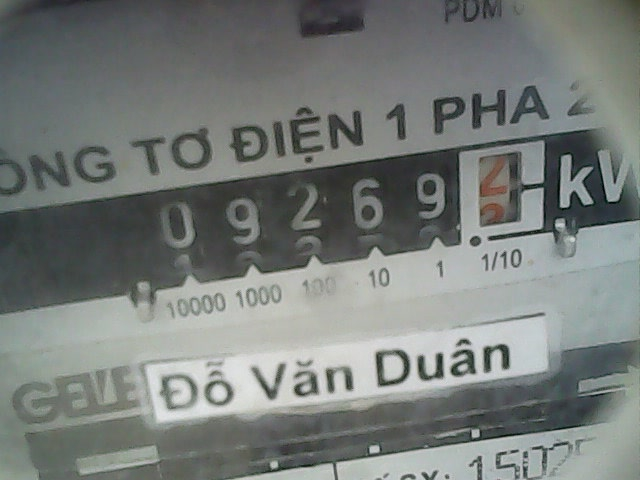phy_plate: (131, 136, 554, 279)
